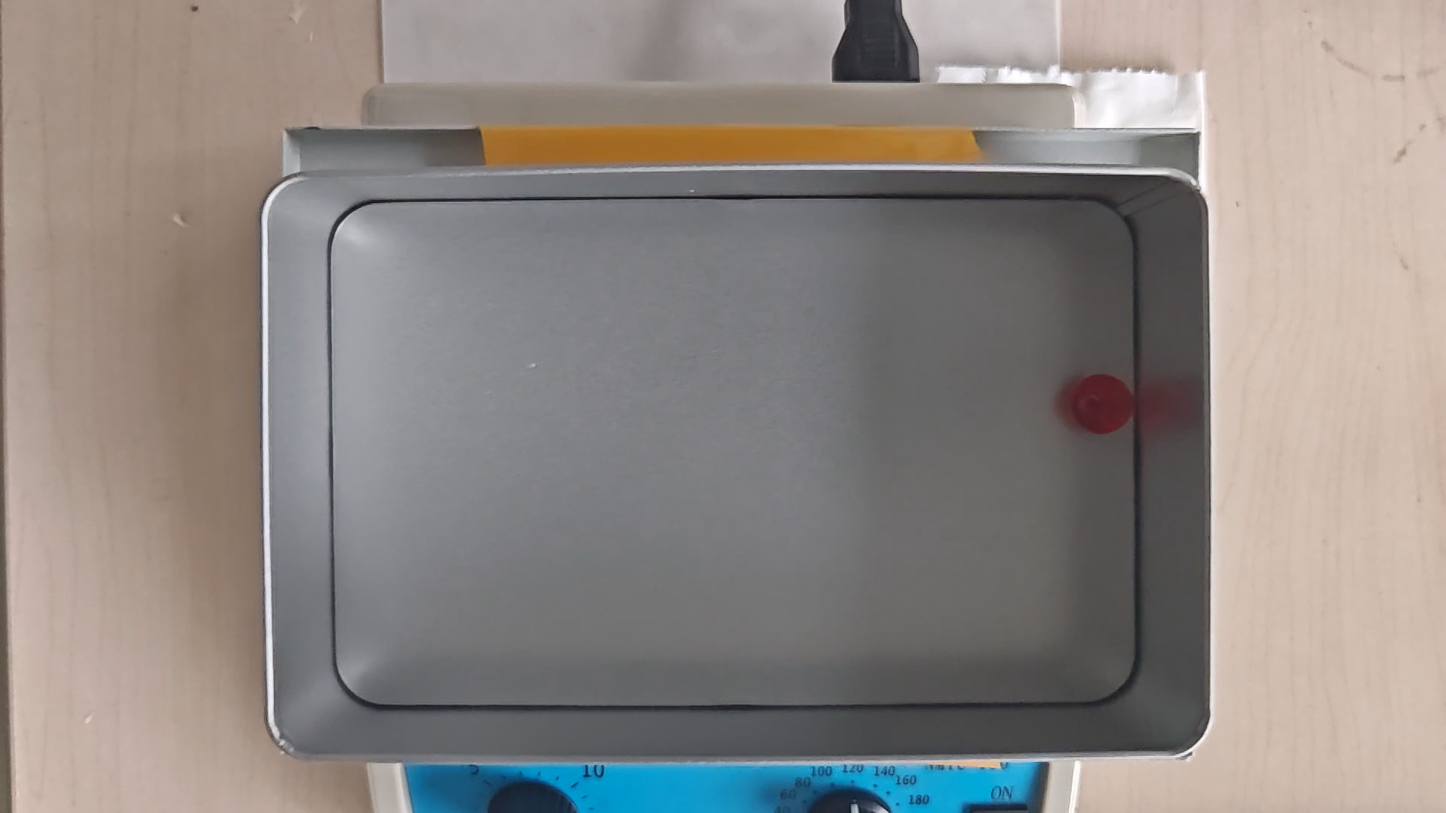ball: (1071, 374, 1134, 437)
container: (329, 200, 1139, 706)
